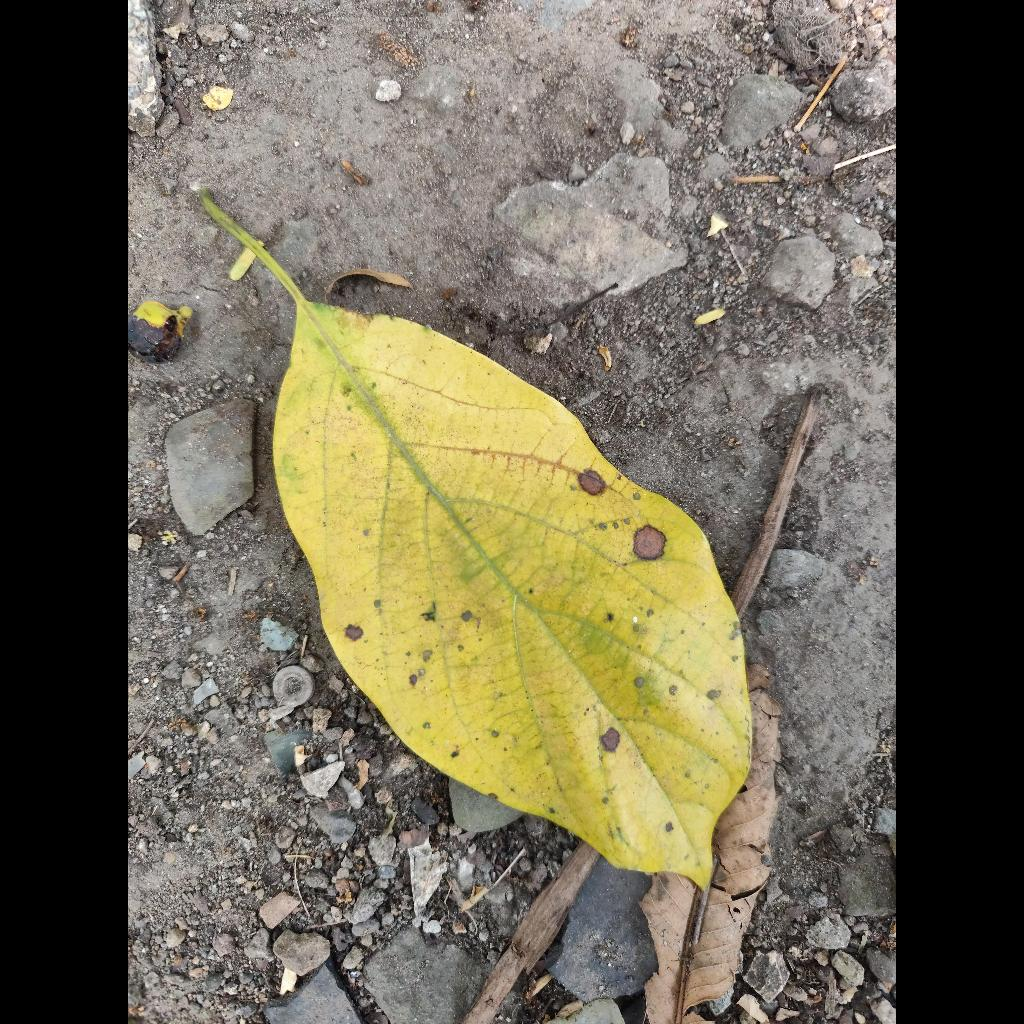nutrient_deficiency: (265, 257, 751, 884)
